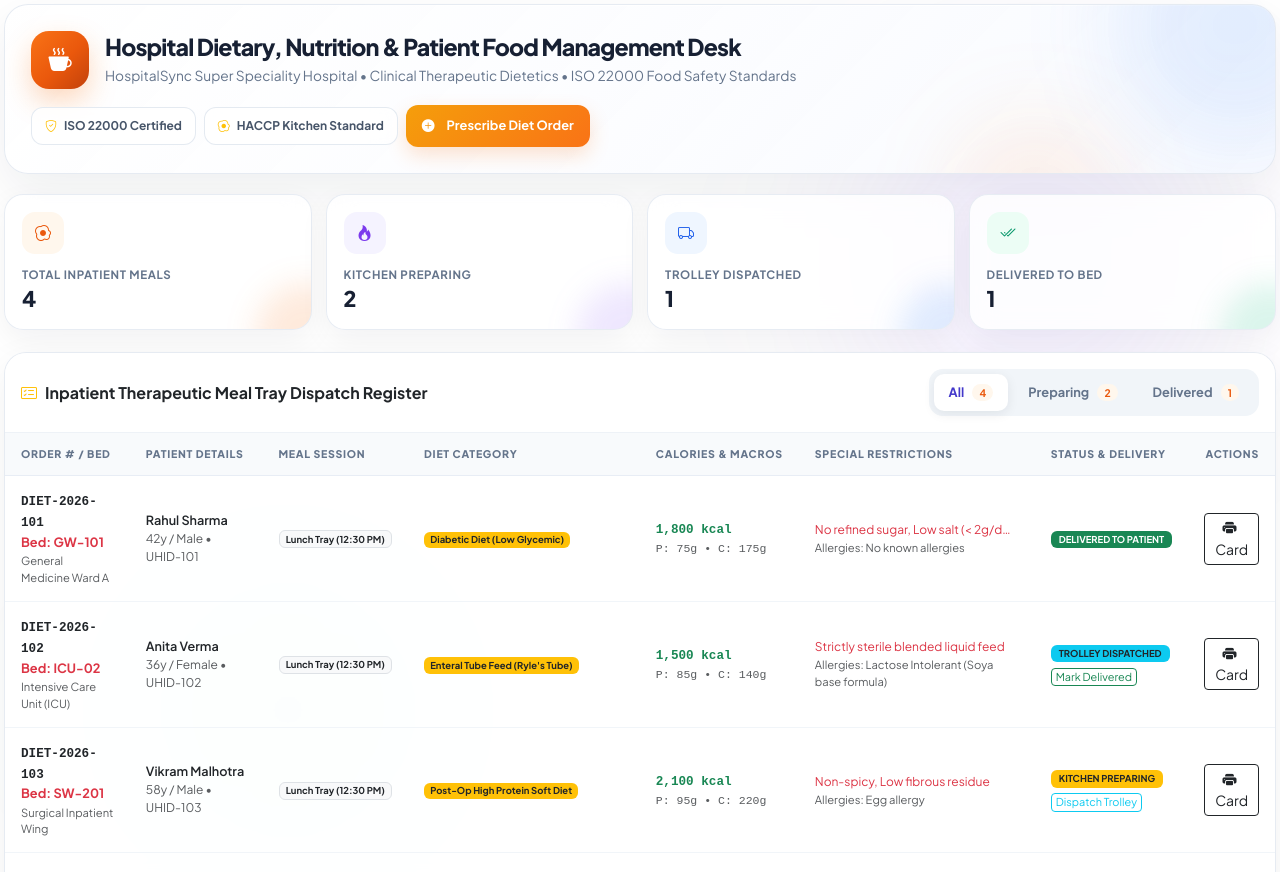
Dietary & Nutrition Desk Integration Suite › opens Prescribe Diet Order modal and handles cancellation
What coordinates should you click on to do the following:
click the button "Prescribe Diet Order"
I would click on:
 (498, 126)
Its box is [406, 105, 590, 147].
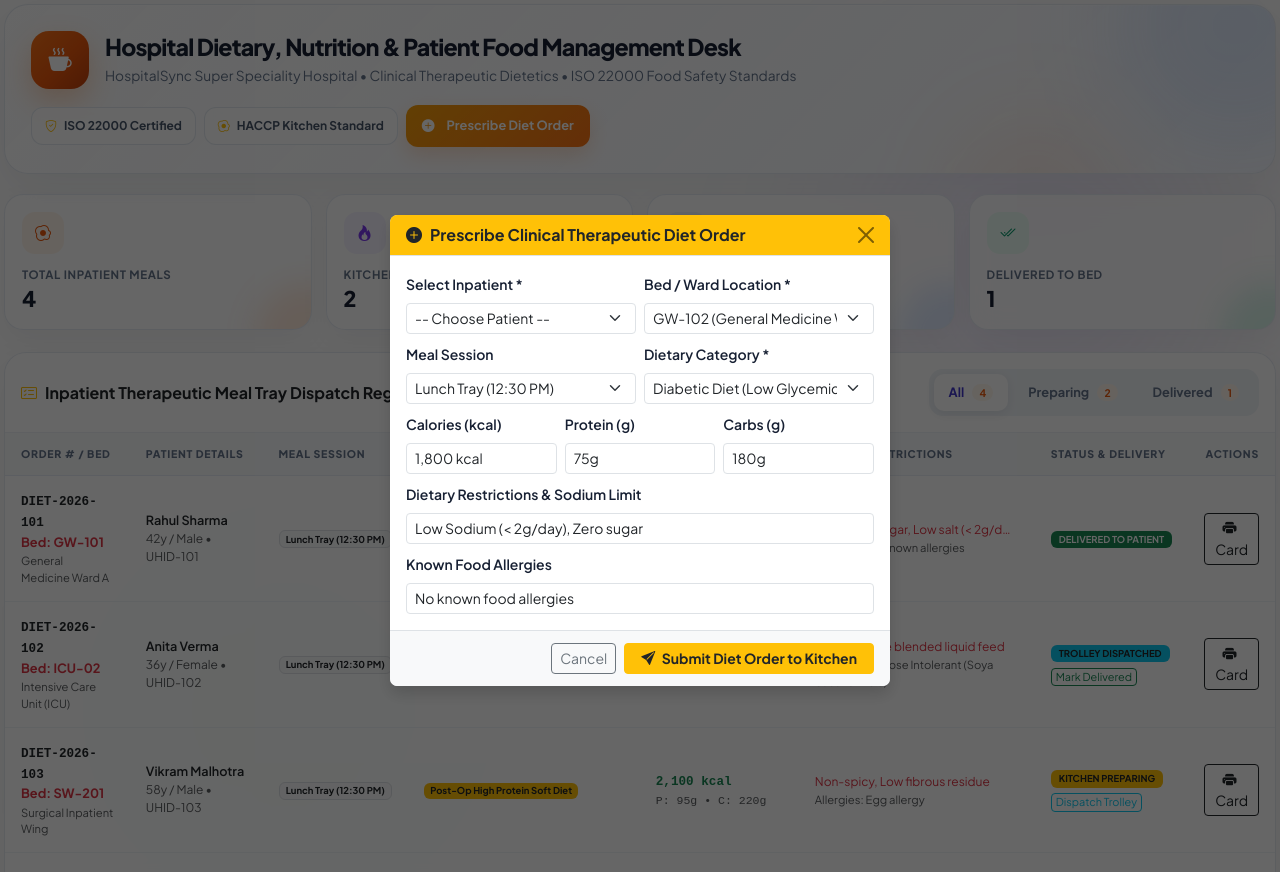
expect the heading "Prescribe Clinical Therapeutic Diet Order" is shown: met, box [406, 222, 746, 246]
What coordinates should you click on to do the following:
click the button "Cancel"
I would click on:
 (584, 658)
Its box is [551, 642, 616, 674].
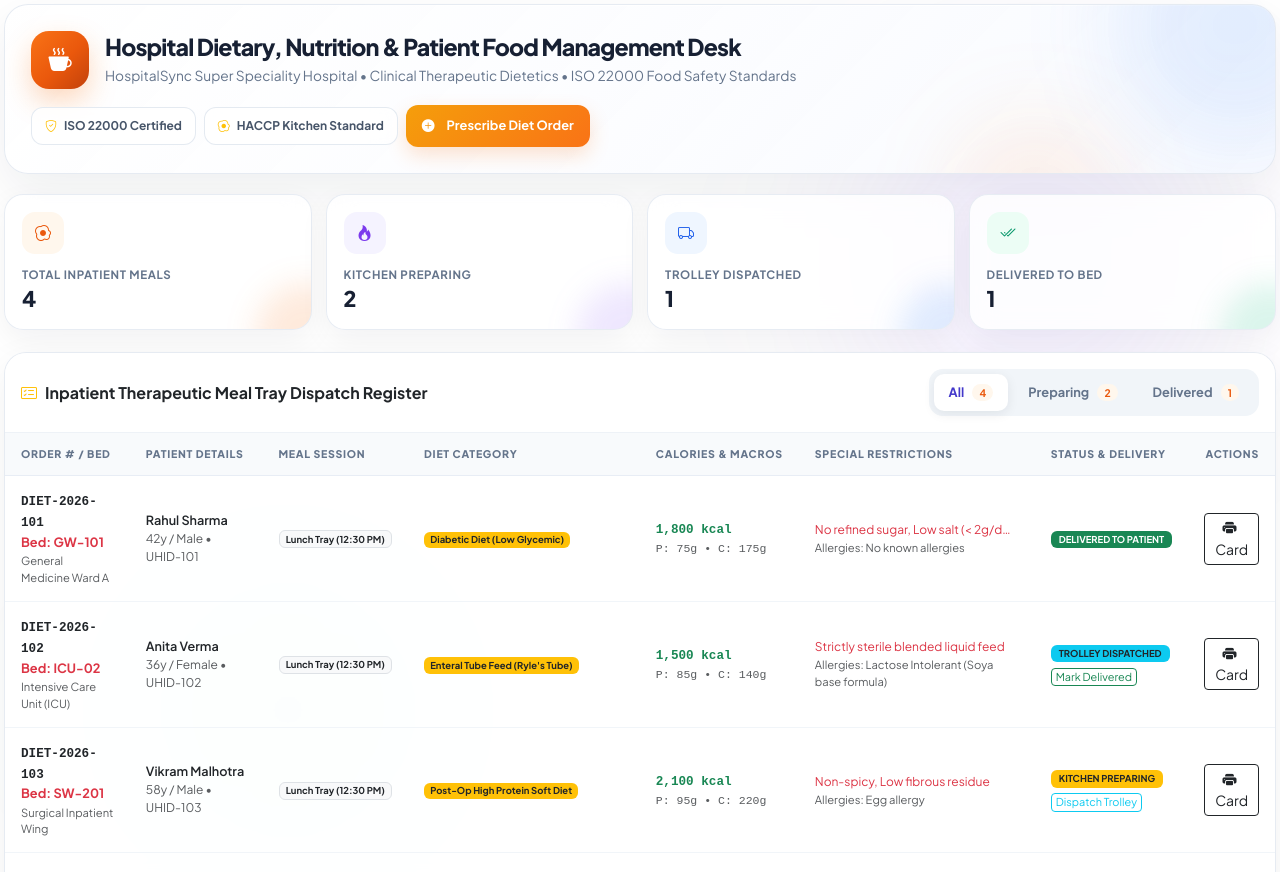
expect the heading "Prescribe Clinical Therapeutic Diet Order" is gone: met
